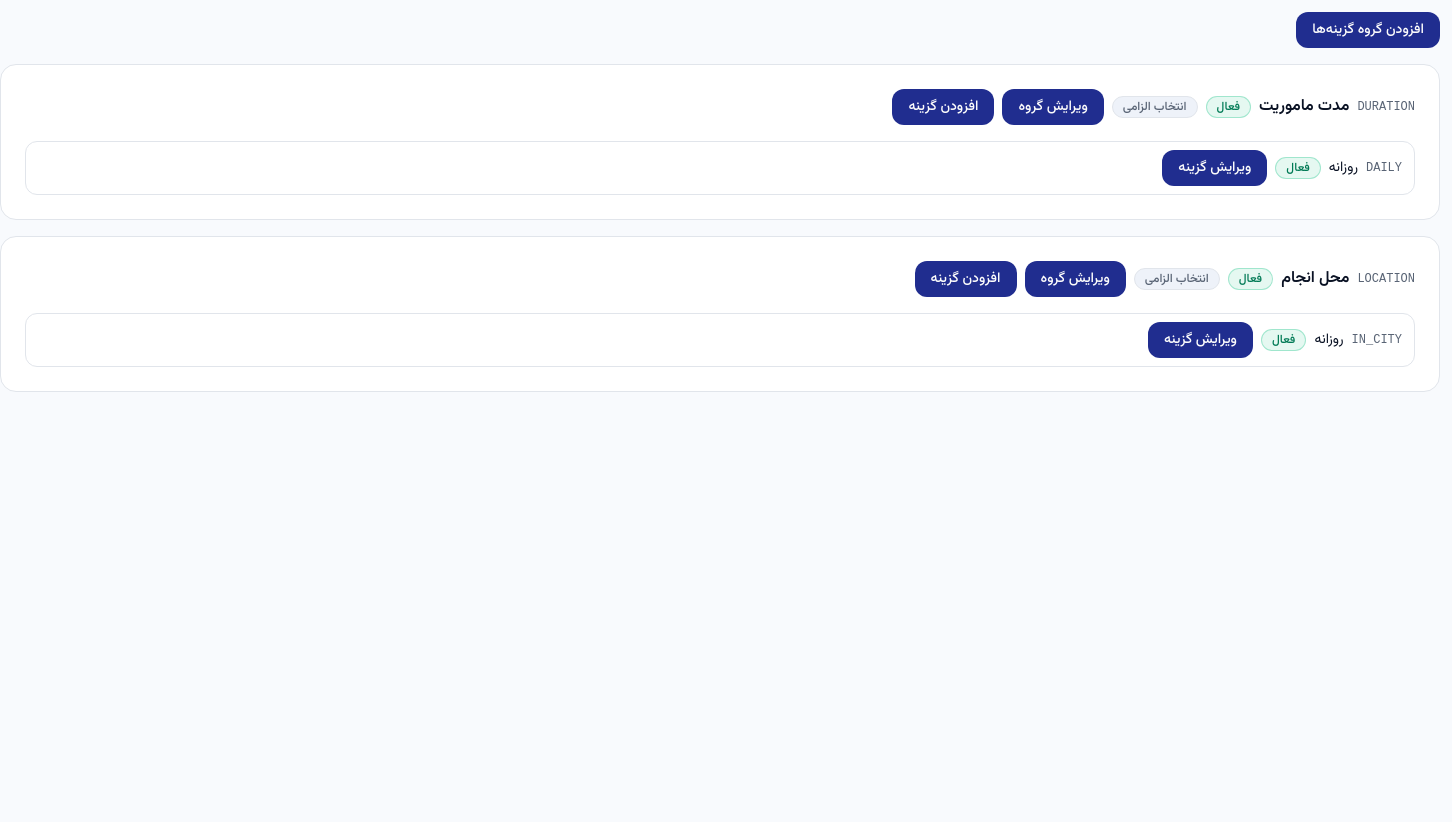
Test: creating an option group › shows a create failure instead of swallowing it
The width and height of the screenshot is (1452, 822).
Expected: the element with test id "hr-mission-catalogue" is shown, [0,64,1440,392]
Click the button with test id "hr-mission-catalogue-create-group" at point(1368, 30), box [1296,12,1440,48]
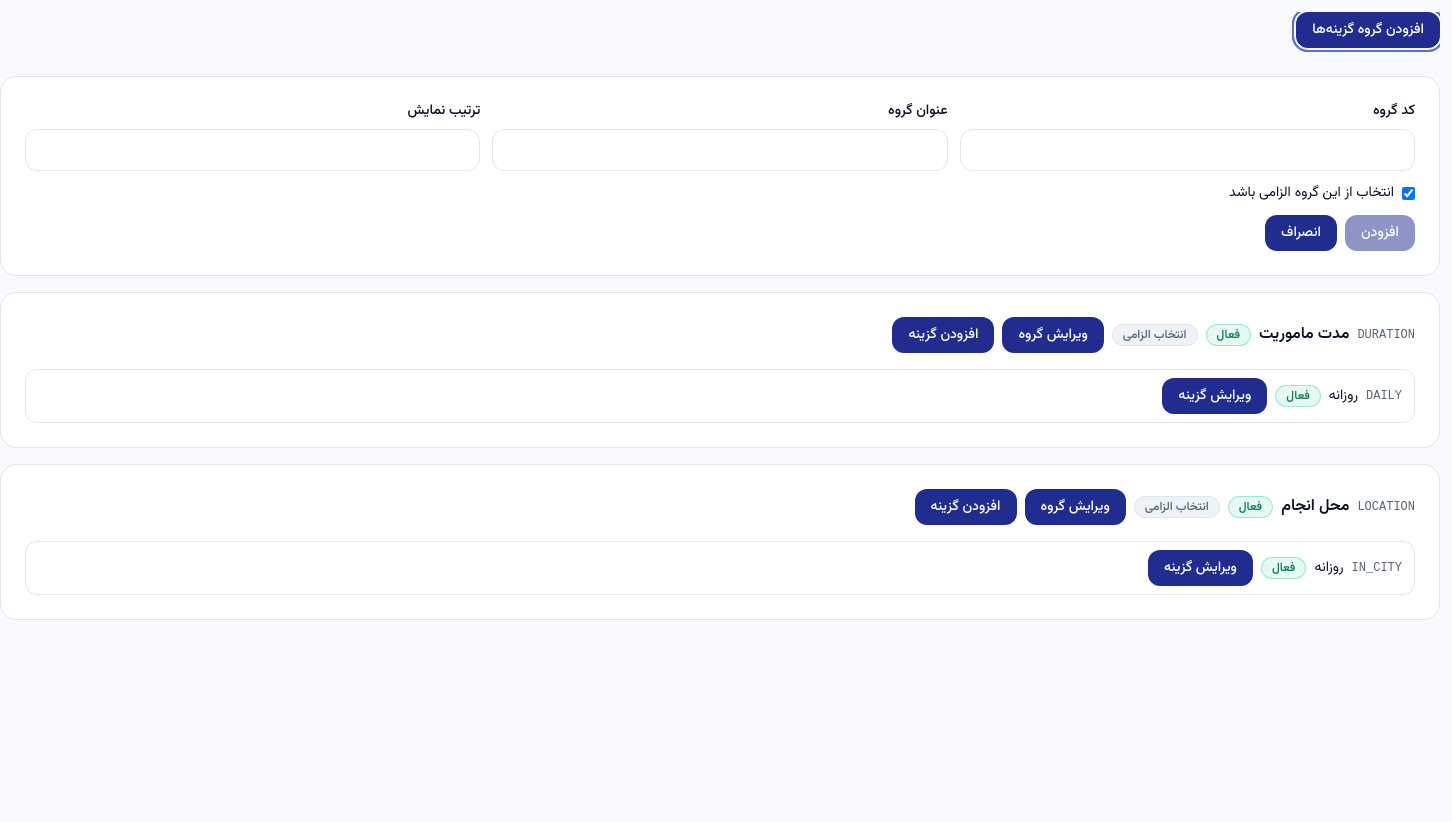
Type "ENGAGEMENT" into the field with test id "hr-mission-catalogue-new-group-code" at point(1187, 150), box [960,129,1415,171]
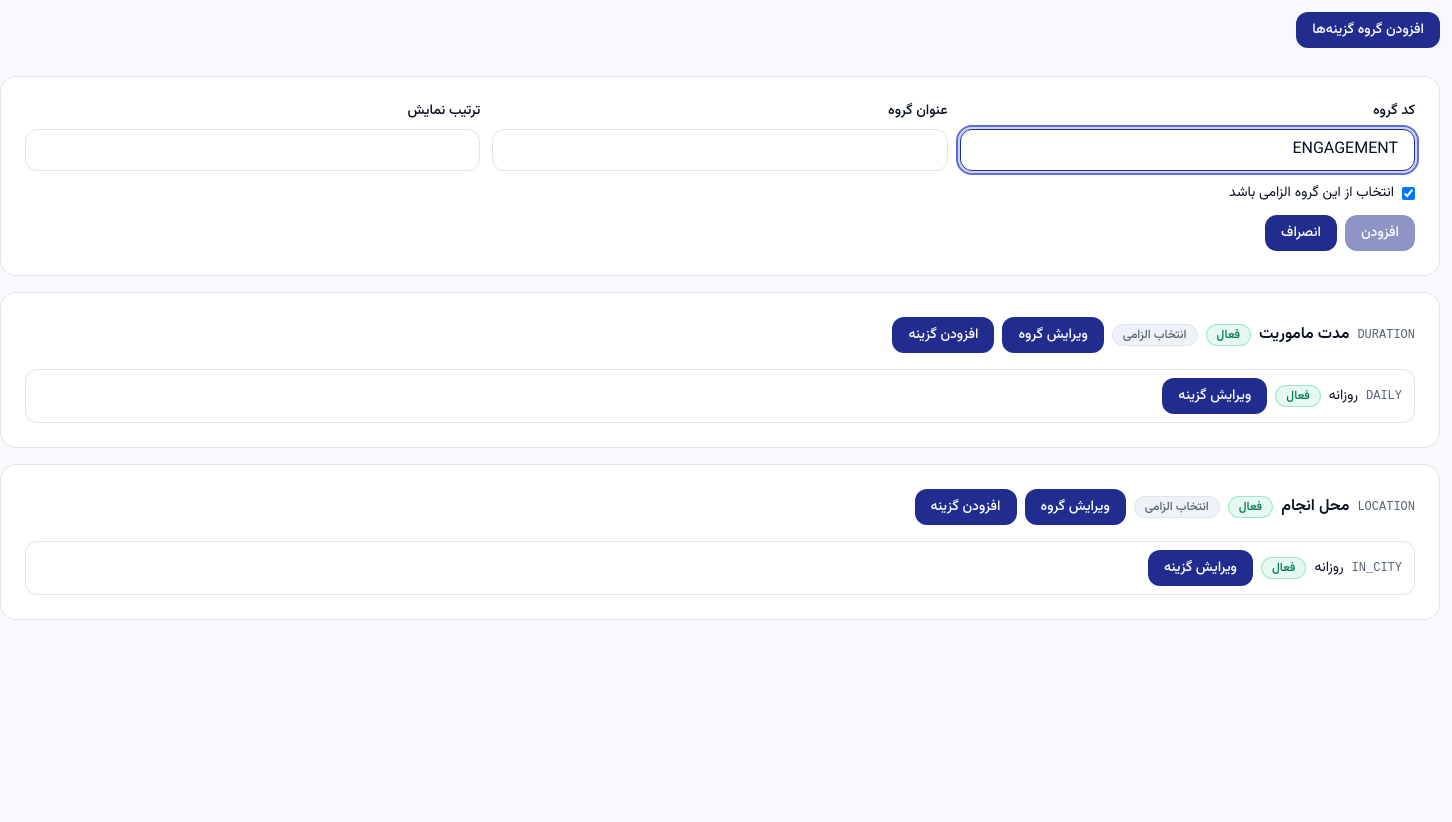
Type "تکراری" into the field with test id "hr-mission-catalogue-new-group-label" at point(720, 150), box [492,129,948,171]
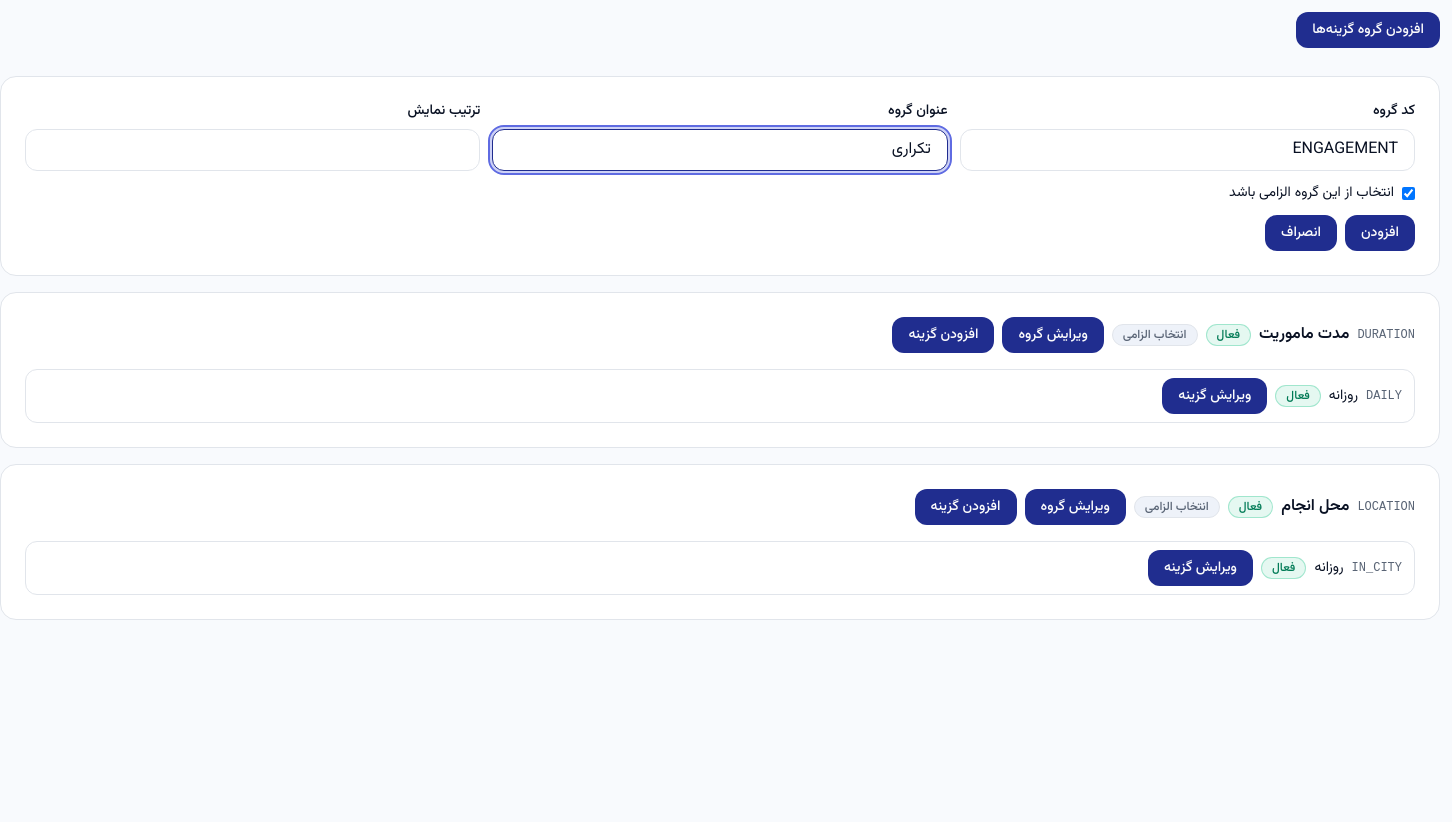
Click the button with test id "hr-mission-catalogue-new-group-save" at point(1380, 233), box [1345,215,1415,251]
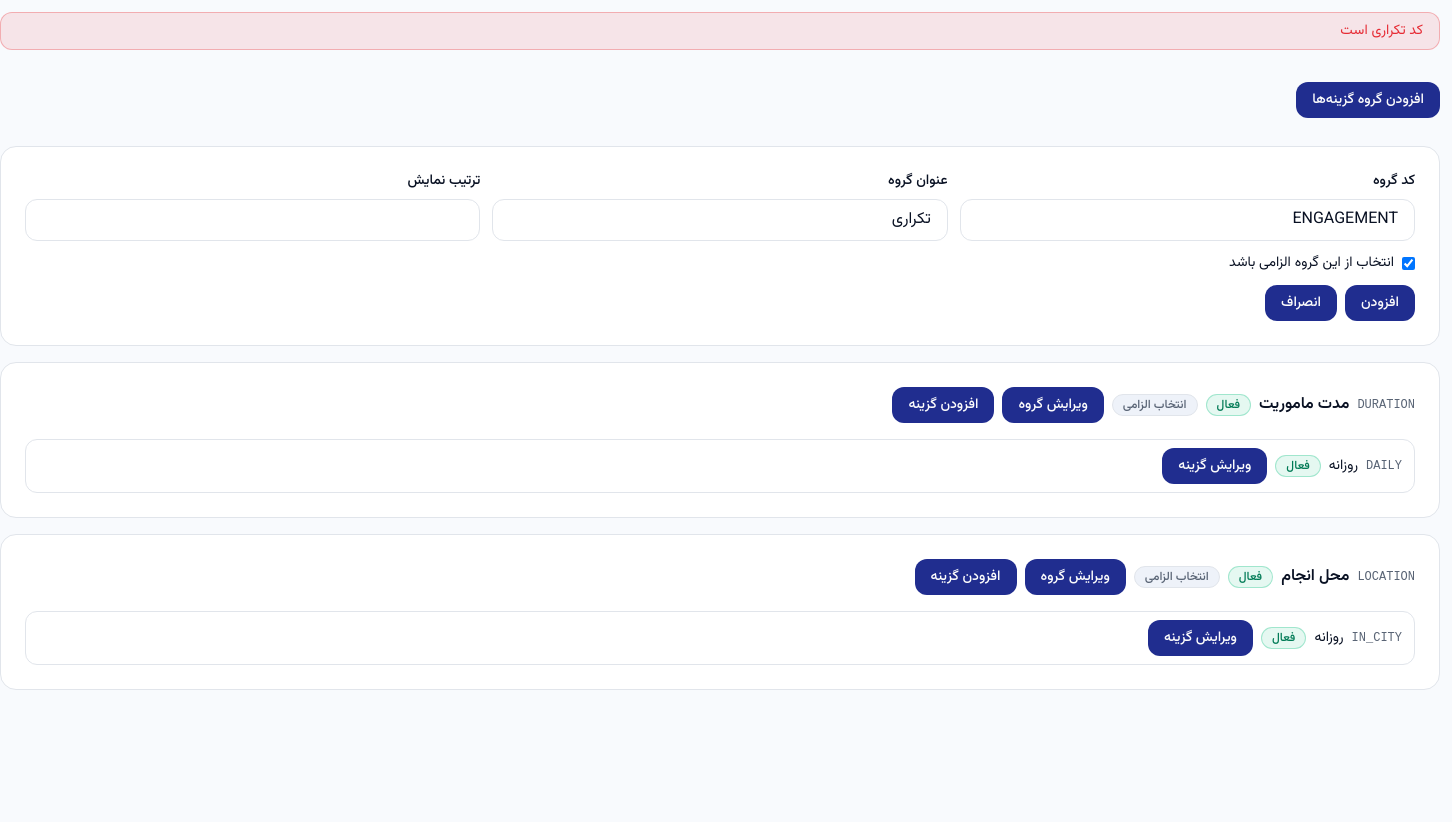
Expected: the message with test id "hr-notice-error" reads "کد تکراری است", [1340,20,1423,42]
